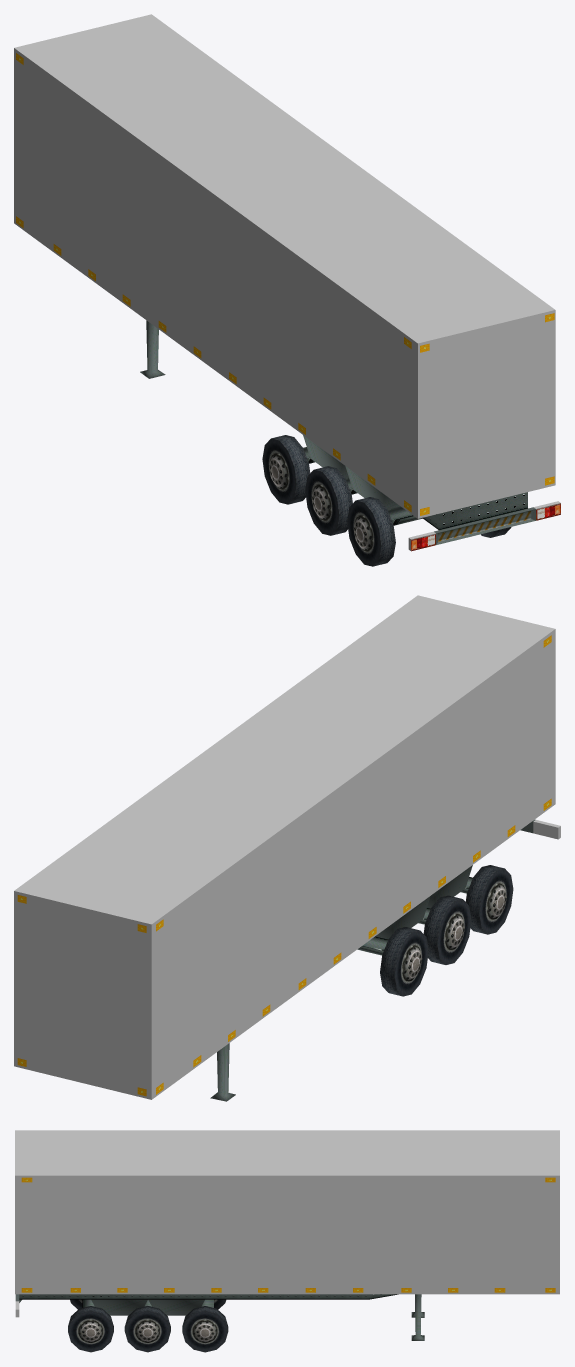
Rendered from trailer_1.fbx.
3 renders of one model, top to bottom at view 1: azimuth 30°, elevation 25°; view 2: azimuth 150°, elevation 25°; view 3: azimuth 270°, elevation 25°, orthographic. The views are drawn at different scales.
Parts seen in each view (by area): view 1: cuzov, shveller, FL3, FL, FL2, back_lights, Lights; view 2: cuzov, FL, FL2, FL3, shveller, Lights; view 3: cuzov, shveller, RR, RR2, RR3, Lights.
Boxes of the visible parts, left/top/right/bottom form: cuzov: left=14, top=14, right=555, bottom=518; shveller: left=140, top=320, right=527, bottom=529; FL3: left=347, top=497, right=395, bottom=566; FL: left=262, top=435, right=310, bottom=504; FL2: left=305, top=466, right=352, bottom=535; back_lights: left=408, top=501, right=560, bottom=551; Lights: left=16, top=53, right=554, bottom=515; cuzov: left=14, top=595, right=555, bottom=1099; FL: left=380, top=927, right=428, bottom=996; FL2: left=423, top=895, right=471, bottom=964; FL3: left=465, top=865, right=513, bottom=934; shveller: left=210, top=865, right=472, bottom=1101; Lights: left=17, top=635, right=551, bottom=1096; cuzov: left=15, top=1130, right=559, bottom=1294; shveller: left=19, top=1294, right=424, bottom=1340; RR: left=182, top=1306, right=228, bottom=1352; RR2: left=124, top=1306, right=170, bottom=1352; RR3: left=68, top=1306, right=113, bottom=1352; Lights: left=21, top=1177, right=555, bottom=1292.
Bounding box in the file's own units: 270 × 453 × 1264.
